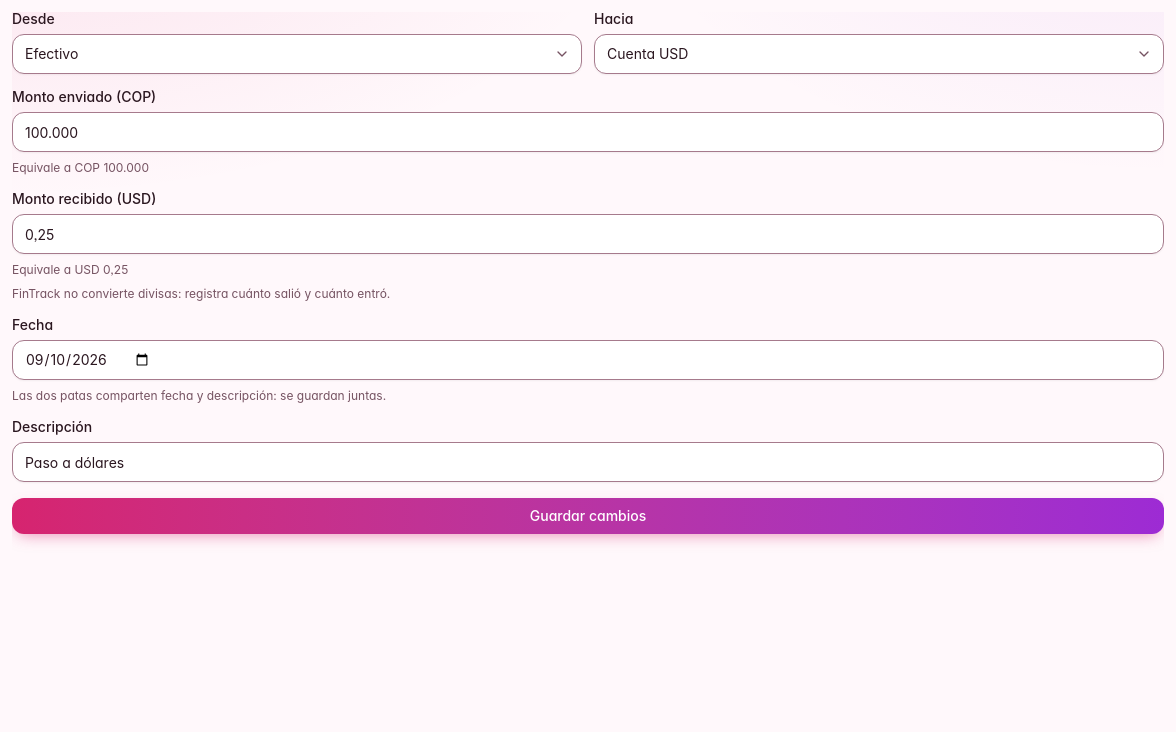
TransferForm — edición (M8) › avisa al cambiar una cuenta, no al corregir la descripción
Type " corregida" into the field labelled "Descripción".
click(588, 462); type(" corregida")  # box [12,442,1164,482]
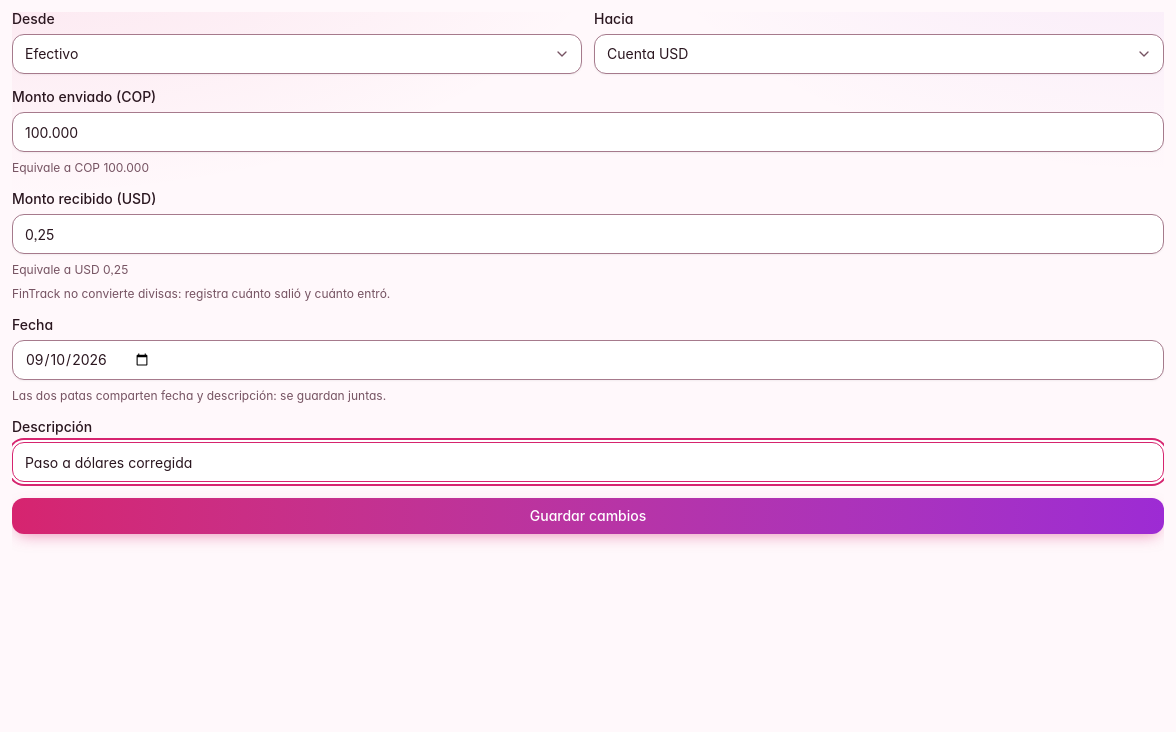
Select "Ahorros" in the dropdown labelled "Desde" at (297, 54), box [12,34,582,74]
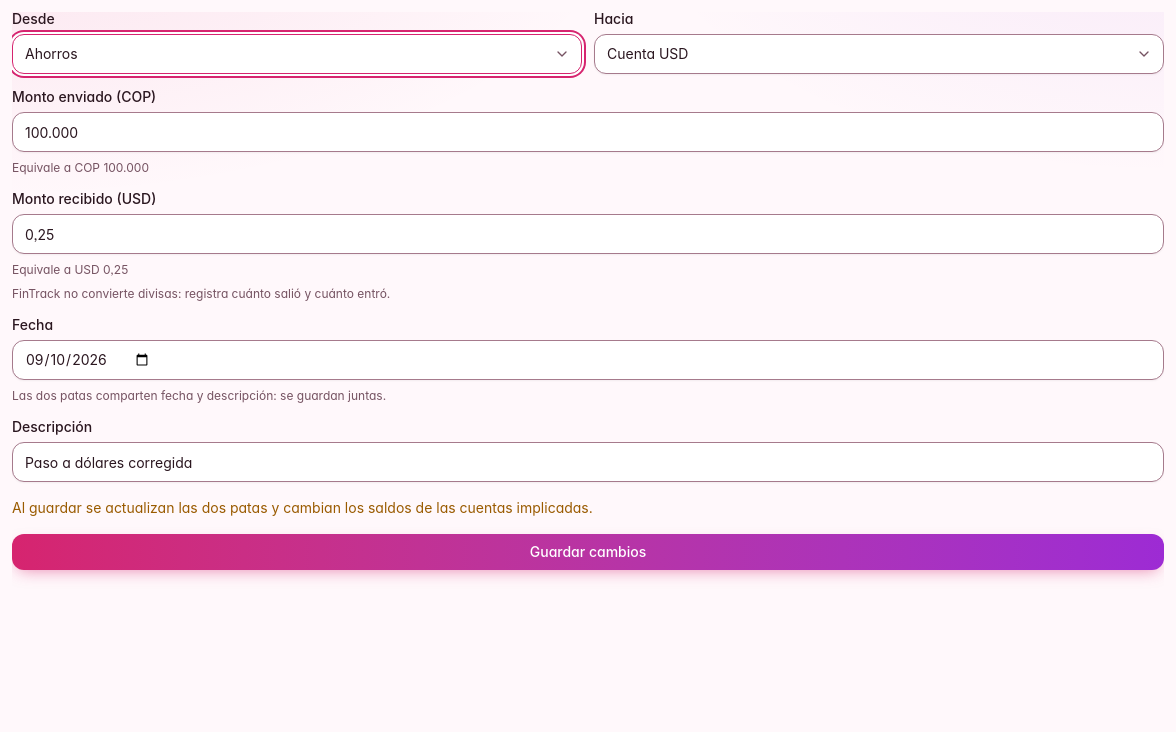
Result: the text "Al guardar se actualizan las dos patas y cambian los saldos de las cuentas implicadas." is shown at [12,499,593,516]
